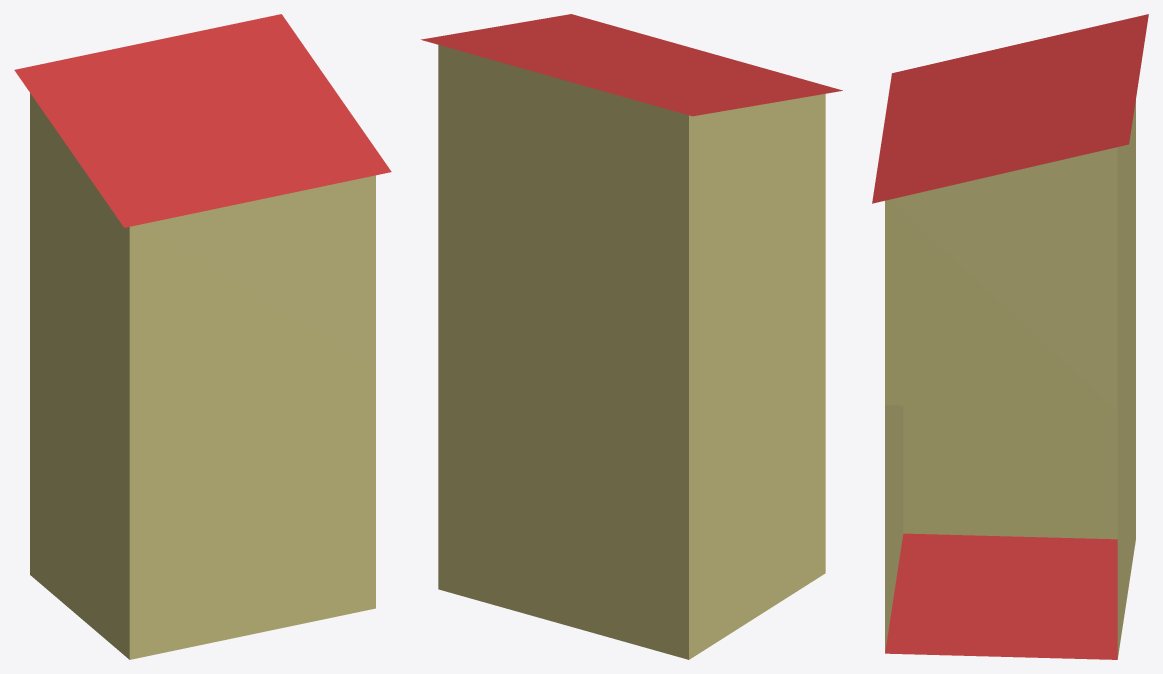
The picture shows the model from 3 angles, left to right: view 1: azimuth 30°, elevation 25°; view 2: azimuth 150°, elevation 25°; view 3: azimuth 270°, elevation 25°; orthographic projection. The views are drawn at different scales.
Bounding box in the file's own units: 6.64 × 5.65 × 11.74.
